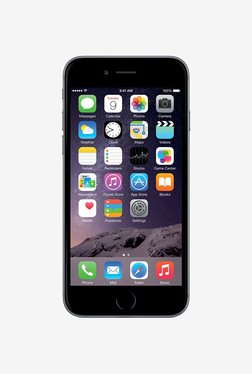mobile: (57, 41, 213, 333)
